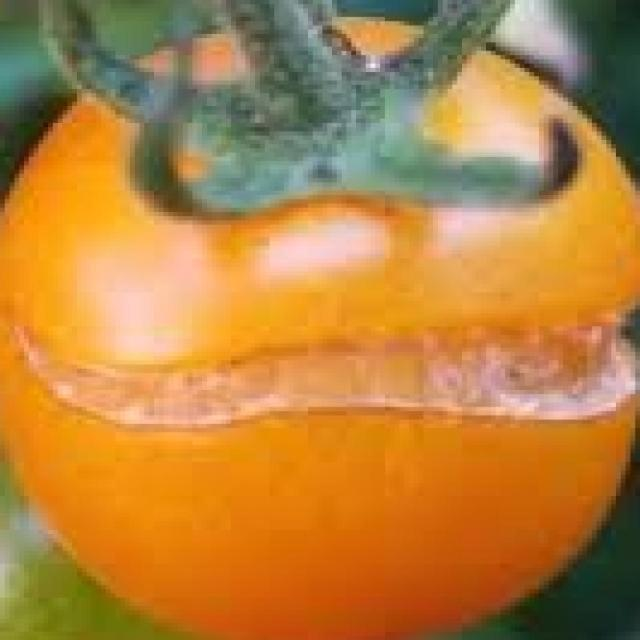Cracking Fruit: (0, 184, 426, 286)
